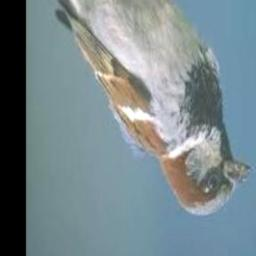Sparrow: (35, 0, 254, 217)
